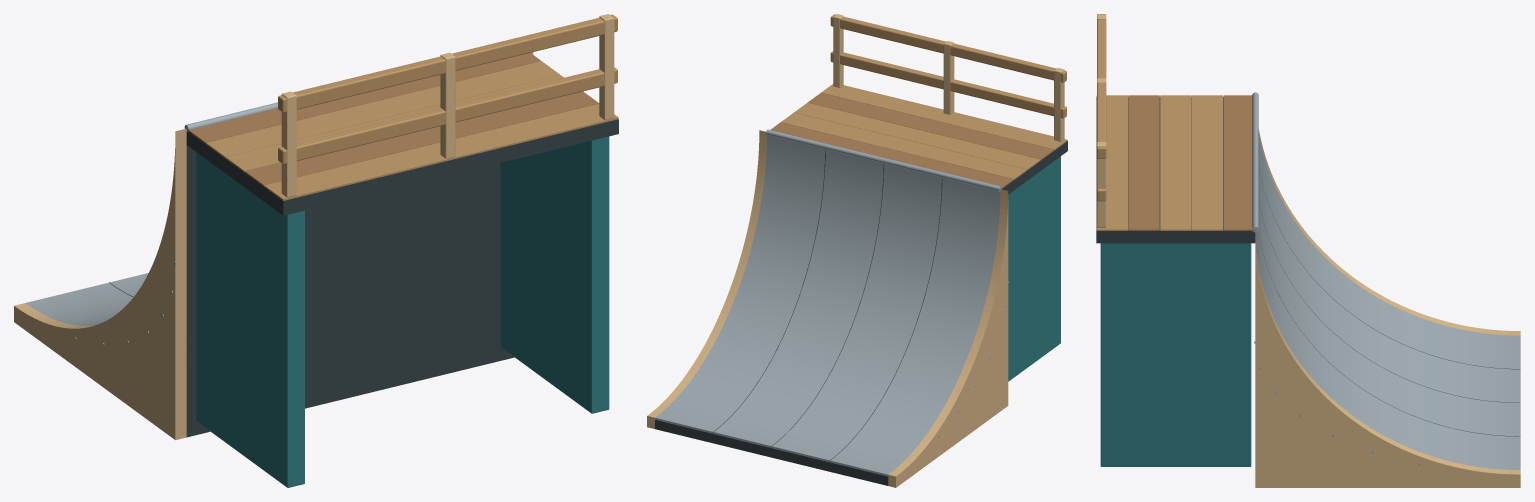
File: skate_quarterpipe.glb
The picture shows the model from 3 angles, left to right: view 1: azimuth 30°, elevation 25°; view 2: azimuth 150°, elevation 25°; view 3: azimuth 270°, elevation 25°; orthographic projection. The views are drawn at different scales.
Visible parts, largest first — view 1: VISUAL__quarter_structure, VISUAL__top_deck_support, VISUAL__top_deck_support.001, VISUAL__quarter_sides_left, VISUAL__top_deck_solid, VISUAL__top_deck_plank.004, VISUAL__top_deck_plank.001, VISUAL__back_rail.001, VISUAL__back_rail, VISUAL__top_deck_plank.003, VISUAL__top_deck_plank, VISUAL__quarter_ride (+4 smaller); view 2: VISUAL__quarter_ride, VISUAL__top_deck_support, VISUAL__quarter_sides_left, VISUAL__top_deck_plank.002, VISUAL__top_deck_plank.001, VISUAL__top_deck_plank.003, VISUAL__top_deck_plank.004, VISUAL__back_rail.001, VISUAL__back_rail, VISUAL__quarter_sides_right, VISUAL__top_deck_plank, VISUAL__quarter_structure (+5 smaller); view 3: VISUAL__quarter_ride, VISUAL__top_deck_support.001, VISUAL__quarter_sides_right, VISUAL__top_deck_plank.001, VISUAL__top_deck_plank.002, VISUAL__top_deck_plank.003, VISUAL__top_deck_plank, VISUAL__top_deck_plank.004, VISUAL__top_deck_solid, VISUAL__quarter_sides_left, VISUAL__back_rail.001, VISUAL__quarter_coping (+1 smaller).
Boxes of the visible parts, x1,y1,x2,y2 form: VISUAL__quarter_structure: (186,145,514,437); VISUAL__top_deck_support: (196,152,304,487); VISUAL__top_deck_support.001: (500,136,609,413); VISUAL__quarter_sides_left: (14,128,186,440); VISUAL__top_deck_solid: (186,119,618,215); VISUAL__top_deck_plank.004: (264,104,618,200); VISUAL__top_deck_plank.001: (206,61,560,158); VISUAL__back_rail.001: (278,14,617,112); VISUAL__back_rail: (278,67,617,164); VISUAL__top_deck_plank.003: (245,91,599,186); VISUAL__top_deck_plank: (187,53,540,143); VISUAL__quarter_ride: (25,273,148,325); VISUAL__quarter_ride: (655,135,1000,476); VISUAL__top_deck_support: (1008,156,1060,381); VISUAL__quarter_sides_left: (888,189,1008,487); VISUAL__top_deck_plank.002: (794,102,1040,170); VISUAL__top_deck_plank.001: (781,112,1027,179); VISUAL__top_deck_plank.003: (808,93,1054,160); VISUAL__top_deck_plank.004: (821,84,1067,150); VISUAL__back_rail.001: (830,14,1066,82); VISUAL__back_rail: (830,51,1066,118); VISUAL__quarter_sides_right: (647,130,766,428); VISUAL__top_deck_plank: (770,122,1013,188); VISUAL__quarter_structure: (655,420,888,485); VISUAL__quarter_ride: (1255,133,1520,469); VISUAL__top_deck_support.001: (1100,243,1251,466); VISUAL__quarter_sides_right: (1255,232,1520,487); VISUAL__top_deck_plank.001: (1192,95,1223,230); VISUAL__top_deck_plank.002: (1160,95,1191,230); VISUAL__top_deck_plank.003: (1128,95,1159,230); VISUAL__top_deck_plank: (1224,95,1254,230); VISUAL__top_deck_plank.004: (1096,95,1127,230); VISUAL__top_deck_solid: (1096,96,1255,243); VISUAL__quarter_sides_left: (1258,129,1520,335); VISUAL__back_rail.001: (1097,14,1106,158); VISUAL__quarter_coping: (1252,92,1258,232).
Bounding box in the file's own units: 3.21 × 3.5 × 4.
